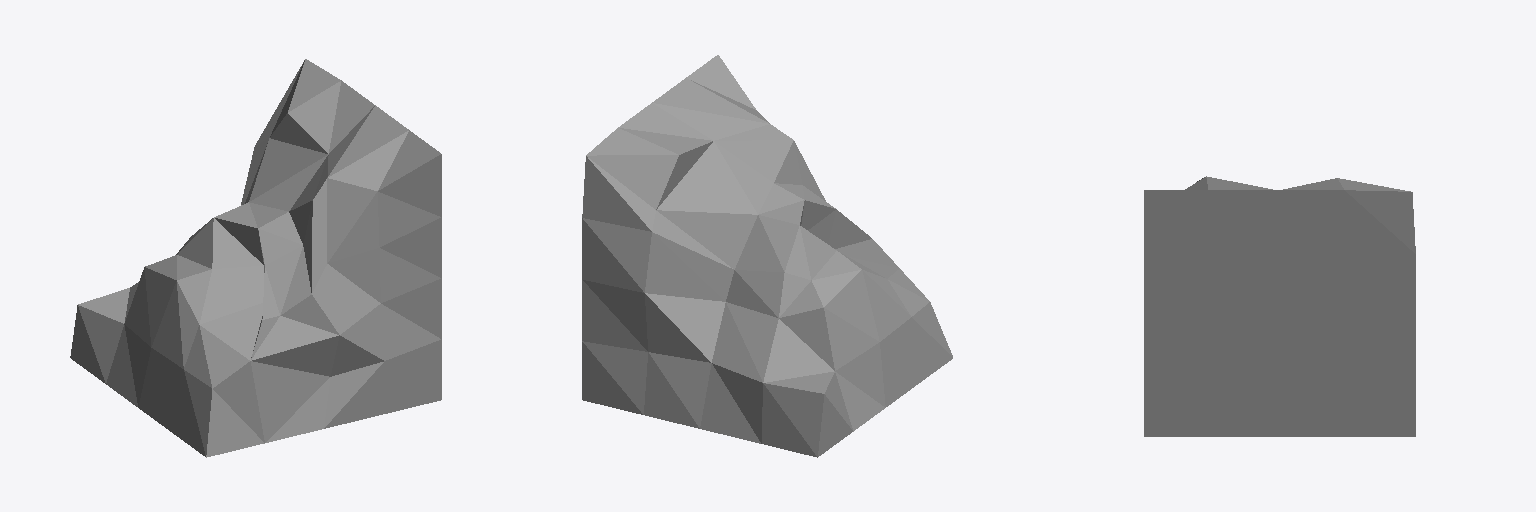
The model's file is crumbled_edge.obj.
The picture shows the model from 3 angles: view 1: azimuth 30°, elevation 25°; view 2: azimuth 150°, elevation 25°; view 3: azimuth 270°, elevation 25°; orthographic projection.
Parts seen in each view (by area): view 1: Cube; view 2: Cube; view 3: Cube.
Boxes of the visible parts, x1=… form: Cube: x1=70, y1=59, x2=441, y2=457; Cube: x1=582, y1=55, x2=952, y2=457; Cube: x1=1144, y1=176, x2=1415, y2=436.
Size of the model in its own units: 1 by 1 by 1.